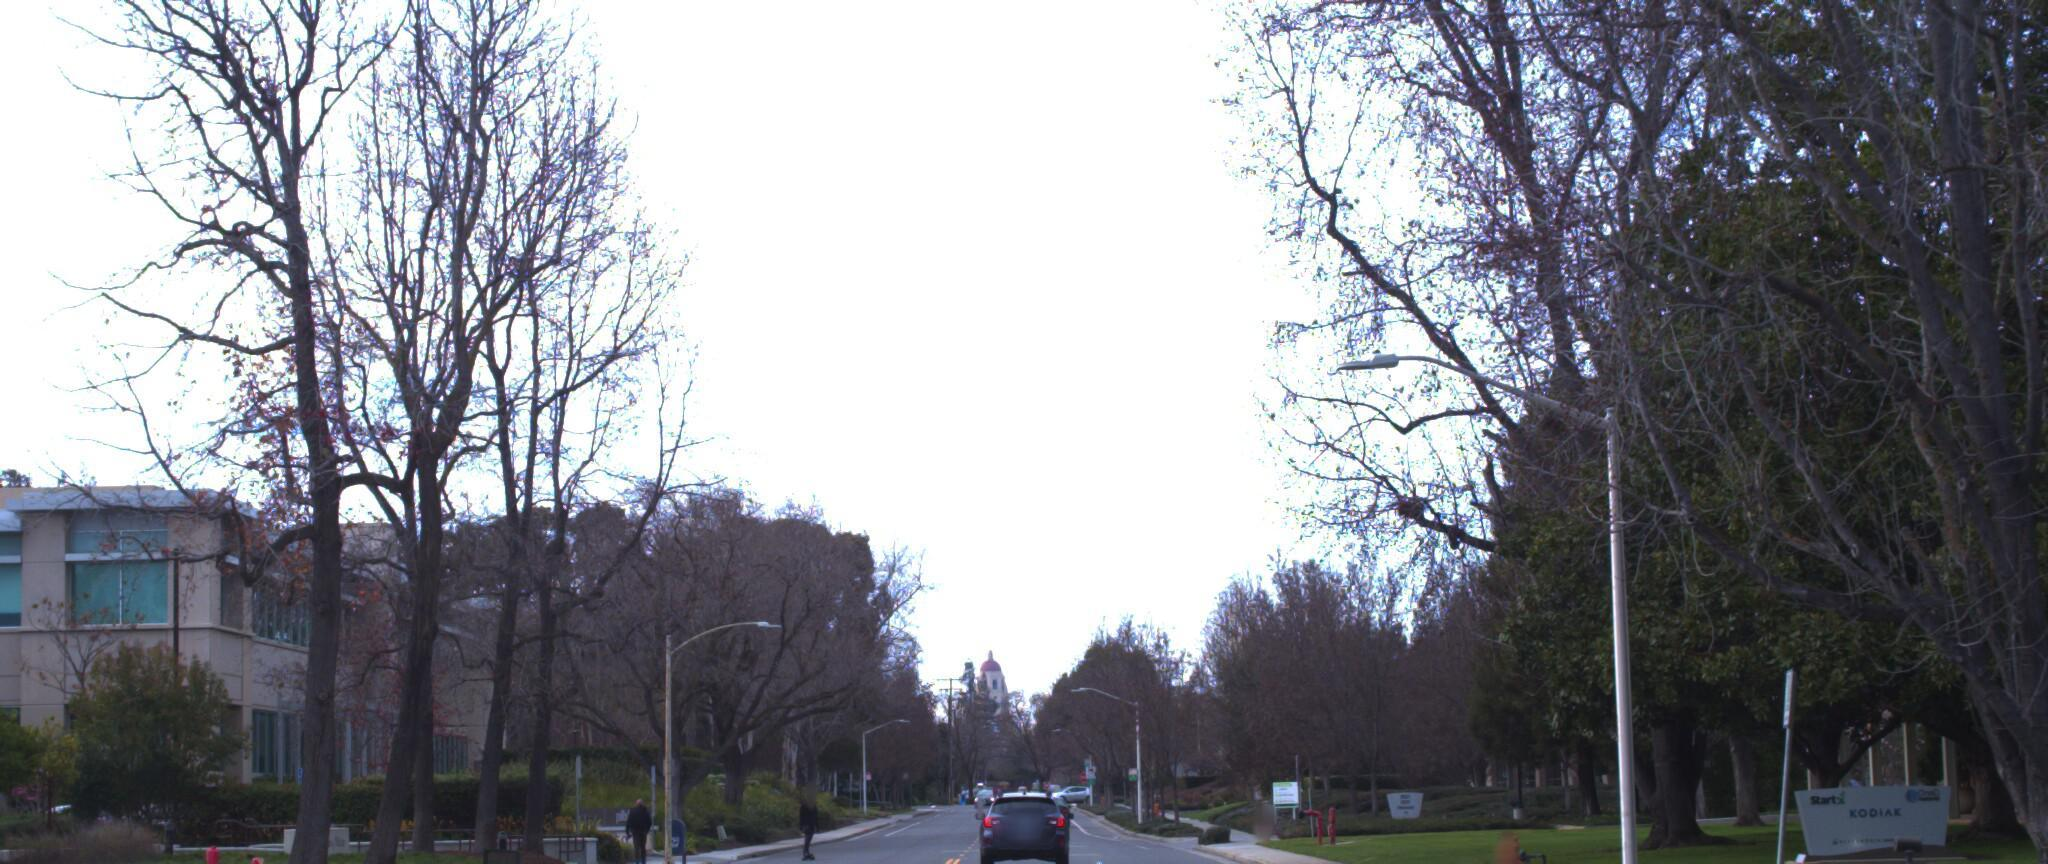car: (970, 783, 1058, 864)
